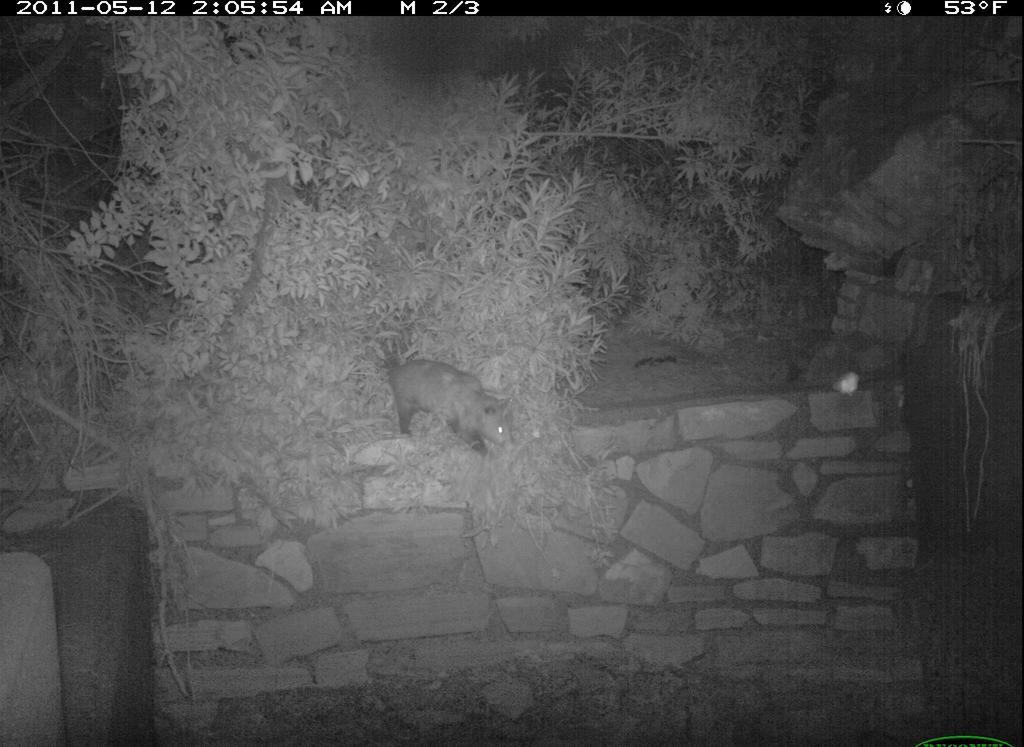opossum: (367, 333, 519, 474)
